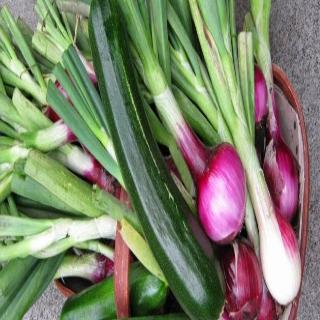Bawang Merah: (2, 1, 302, 320)
